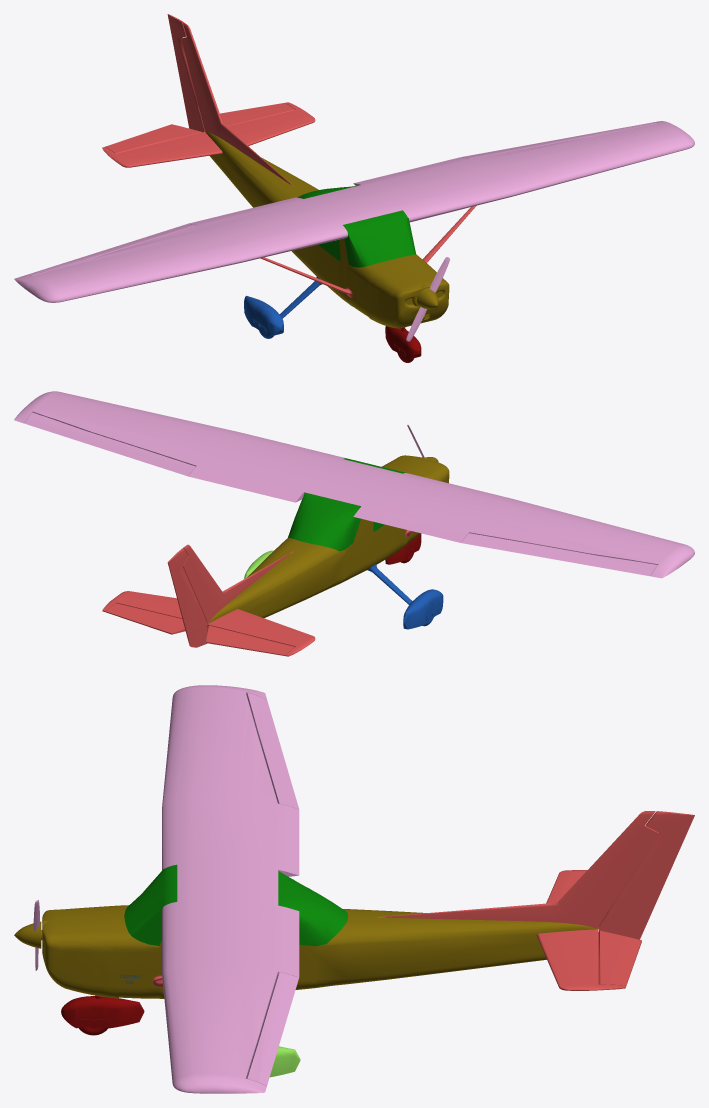
Rendered from Cessna.obj.
3 views of the same model, one above another, from view 1: azimuth 30°, elevation 25°; view 2: azimuth 150°, elevation 25°; view 3: azimuth 270°, elevation 25° (orthographic). The views are drawn at different scales.
Parts seen in each view (by area): view 1: Group_014, Cessna_152_001, Cessna_152_20_empennage_001, Group_009, Group_005, Group_010, Group_012; view 2: Group_014, Cessna_152_20_empennage_001, Cessna_152_001, Group_009, Group_005, Group_010; view 3: Group_014, Cessna_152_001, Cessna_152_20_empennage_001, Group_009, Group_010, Group_002.
Part boxes in pixels (x1,y1,x2,y2): Group_014: (14,121,694,302); Cessna_152_001: (205,132,449,328); Cessna_152_20_empennage_001: (102,14,315,186); Group_009: (297,186,415,267); Group_005: (244,276,322,338); Group_010: (385,326,421,362); Group_012: (406,257,450,341); Group_014: (14,391,694,578); Cessna_152_20_empennage_001: (102,544,315,656); Cessna_152_001: (207,455,449,632); Group_009: (288,458,405,551); Group_005: (367,564,443,629); Group_010: (385,534,421,564); Group_014: (162,685,299,1093); Cessna_152_001: (14,905,598,998); Cessna_152_20_empennage_001: (377,811,694,990); Group_009: (124,864,347,946); Group_010: (61,995,144,1035); Group_002: (270,1046,300,1077).
Bounding box in the file's own units: 18242 × 4725 × 13033.
